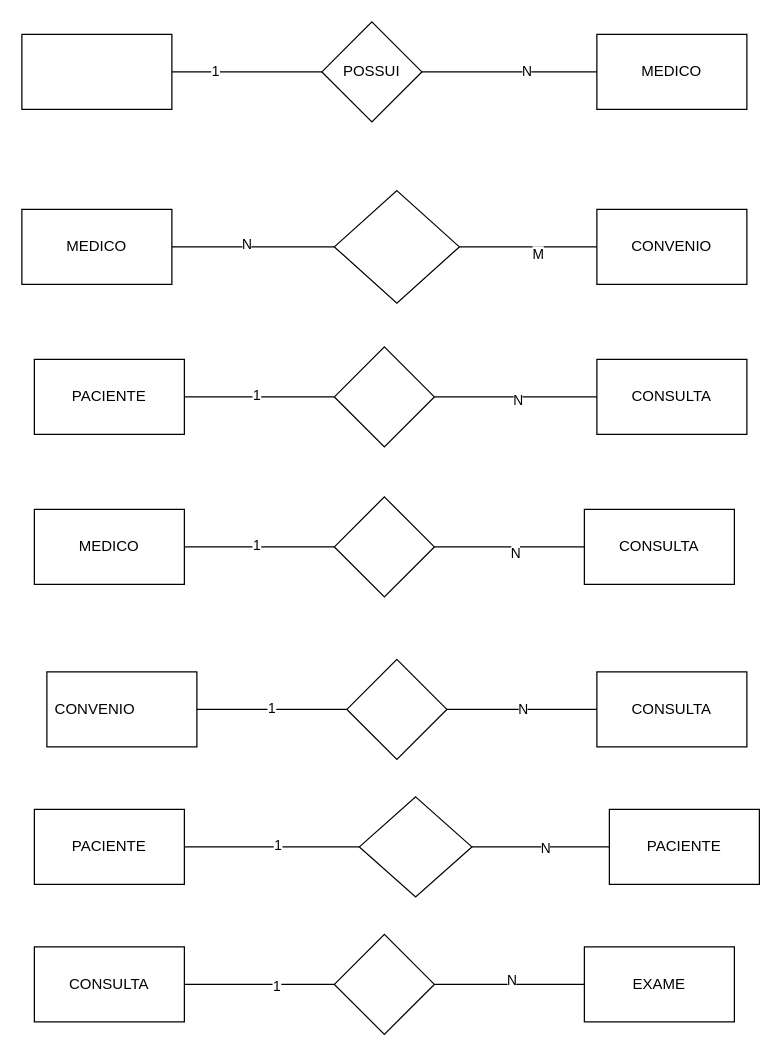
This 781x1056 diagram has some shape labels left out. The centre of each missing label's shape, as x and y in pixels:
"ATENDE" goes at pixel 383 546.
"CREDENCIADO" goes at pixel 396 246.
"DEPEMDE-DE" goes at pixel 415 846.
"ESPECIALIDADE" goes at pixel 96 71.
"PAGA" goes at pixel 396 708.
"REALIZA" goes at pixel 383 396.
"SOLICITA" goes at pixel 383 983.
